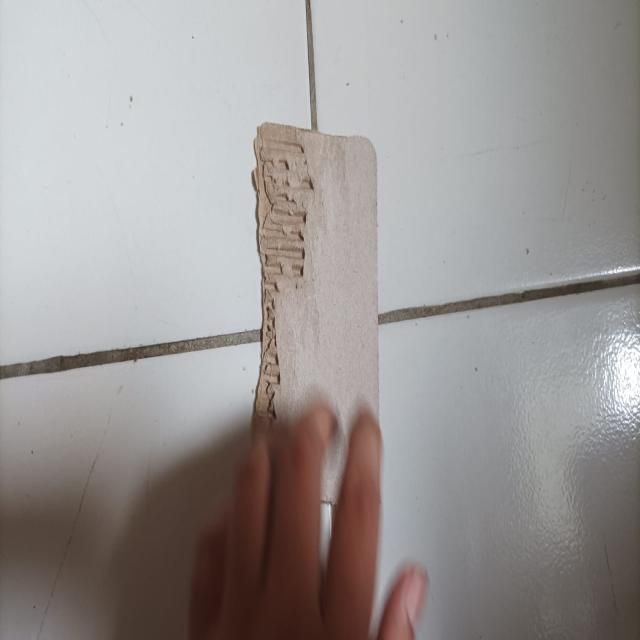Organik: (253, 124, 379, 416)
